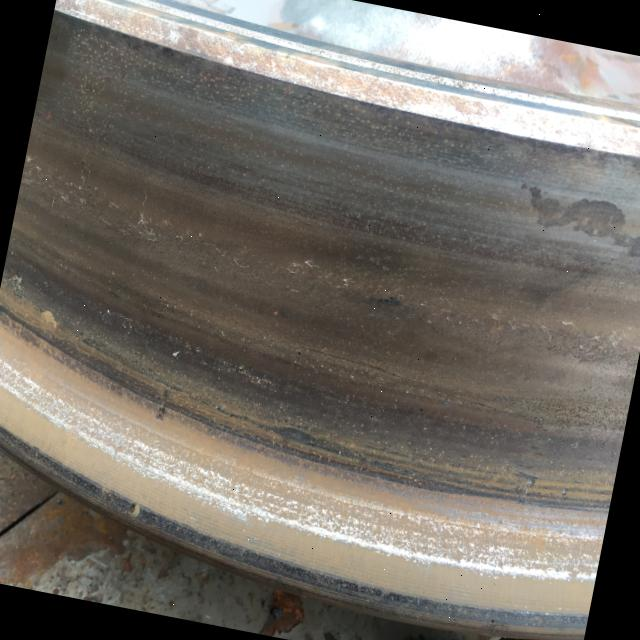Contact_Fatigue_Cracks: (59, 186, 176, 252), (405, 289, 501, 342), (551, 319, 640, 370), (177, 234, 264, 281), (285, 257, 357, 297), (19, 152, 69, 205), (498, 316, 551, 349)
